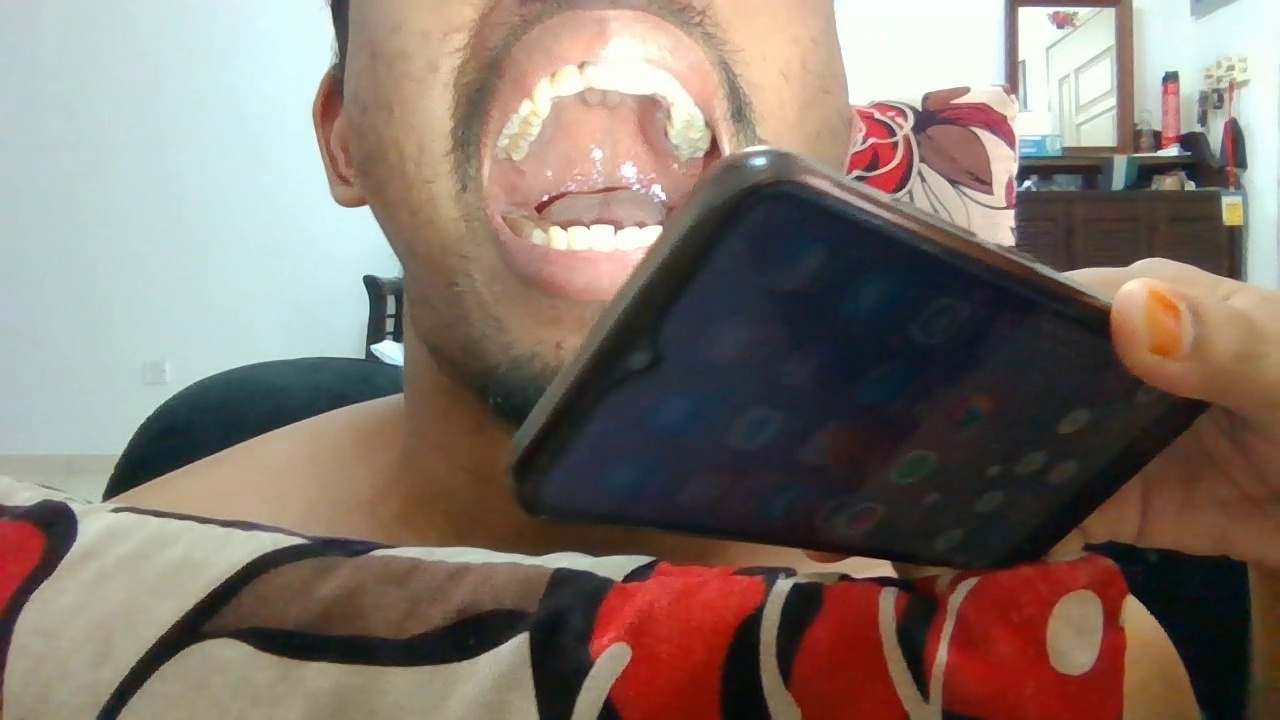1st Molar: (672, 140, 712, 152)
1st Premolar: (519, 98, 551, 120), (671, 105, 704, 125), (532, 227, 549, 246)
2nd Premolar: (666, 121, 705, 139), (505, 117, 543, 134)
Canine: (533, 76, 551, 111), (548, 224, 569, 251)
Central Incisor: (590, 223, 615, 252), (615, 225, 643, 250)
Lateral Incisor: (551, 64, 584, 96), (569, 225, 590, 250), (642, 224, 663, 247)
